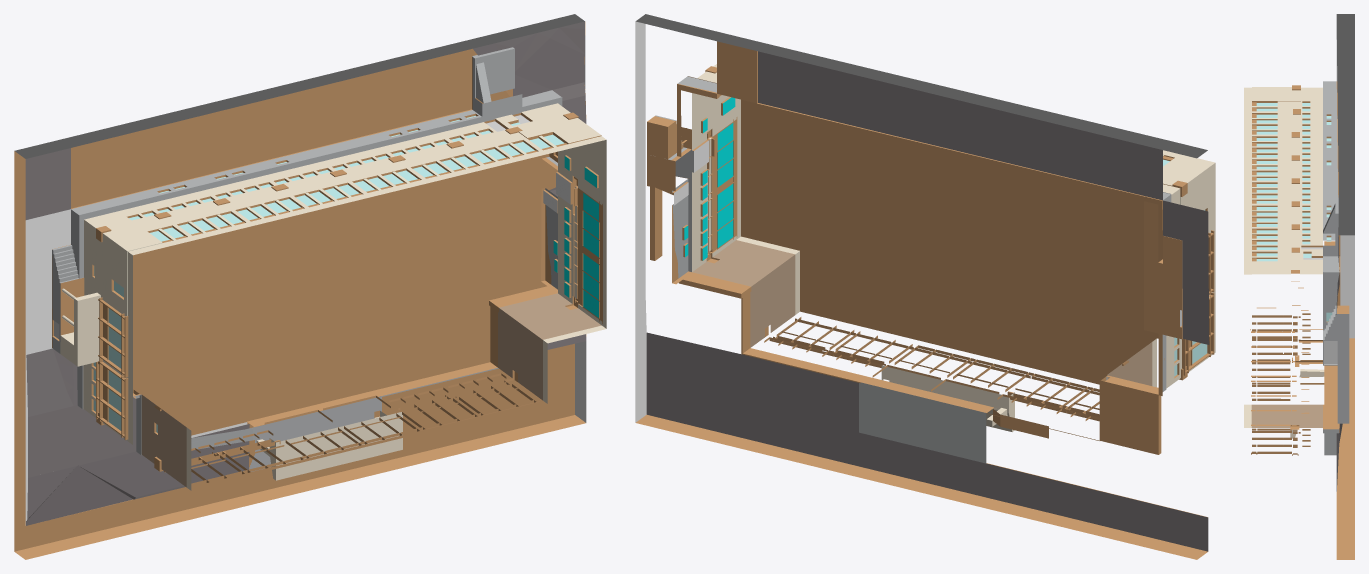
The model's file is cantina.glb.
The picture shows the model from 3 angles, left to right: view 1: azimuth 30°, elevation 25°; view 2: azimuth 150°, elevation 25°; view 3: azimuth 270°, elevation 25°; orthographic projection. The views are drawn at different scales.
Parts seen in each view (by area): view 1: Entity_9FBC, Entity_79DE, Entity_9EF3, Entity_9D76, Entity_1026, Entity_213F, Entity_5D5A, Entity_5F4C, Entity_99CA, Entity_9A44, Entity_9ECF, Entity_3013 (+26 smaller); view 2: Entity_96C1, Entity_9F65, Entity_614A, Entity_9EF3, Entity_156C, Entity_9D76, Entity_FF9, Entity_60B7, Entity_5A7F, Entity_3013, Entity_116F, Entity_9052 (+13 smaller); view 3: Entity_79DE, Entity_9D76, Entity_9EF3, Entity_5D5A, Entity_116F, Entity_797E, Entity_1086, Entity_96E5, Entity_9A1E, Entity_6290, Entity_8F59, Entity_1856 (+8 smaller).
Part boxes in pixels (x1,y1,x2,y2): Entity_9FBC: (14, 48, 574, 551); Entity_79DE: (84, 122, 606, 255); Entity_9EF3: (14, 415, 585, 559); Entity_9D76: (14, 14, 584, 158); Entity_1026: (25, 209, 247, 525); Entity_213F: (276, 412, 402, 480); Entity_5D5A: (71, 110, 481, 214); Entity_5F4C: (79, 97, 562, 278); Entity_99CA: (28, 405, 77, 477); Entity_9A44: (25, 148, 70, 219); Entity_9ECF: (26, 466, 132, 525); Entity_3013: (498, 308, 542, 400); Entity_96C1: (741, 99, 1162, 384); Entity_9F65: (646, 332, 1208, 551); Entity_614A: (758, 51, 1162, 200); Entity_9EF3: (636, 415, 1207, 559); Entity_156C: (859, 382, 986, 463); Entity_9D76: (636, 14, 1207, 158); Entity_FF9: (635, 19, 645, 422); Entity_60B7: (1163, 200, 1209, 344); Entity_5A7F: (1100, 382, 1158, 454); Entity_3013: (750, 255, 795, 347); Entity_116F: (692, 240, 794, 286); Entity_9052: (692, 93, 740, 256); Entity_79DE: (1244, 87, 1322, 274); Entity_9D76: (1336, 14, 1354, 235); Entity_9EF3: (1336, 338, 1354, 559); Entity_5D5A: (1323, 81, 1338, 240); Entity_116F: (1251, 404, 1322, 427); Entity_797E: (1252, 249, 1322, 274); Entity_1086: (1336, 40, 1354, 338); Entity_96E5: (1337, 365, 1349, 423); Entity_9A1E: (1323, 272, 1339, 330); Entity_6290: (1252, 87, 1300, 100); Entity_8F59: (1324, 314, 1349, 339); Entity_1856: (1324, 365, 1336, 404).
Size of the model in its own units: 57.5 by 39.28 by 12.17.
